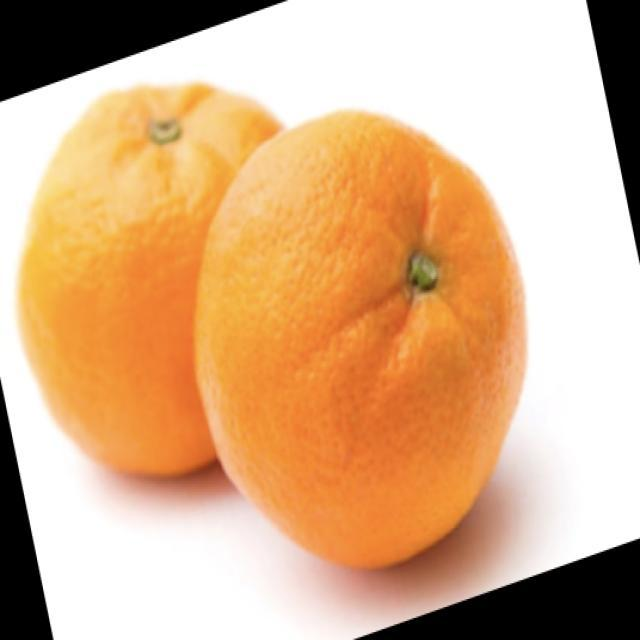Orange: (192, 107, 528, 571), (16, 80, 283, 478)
